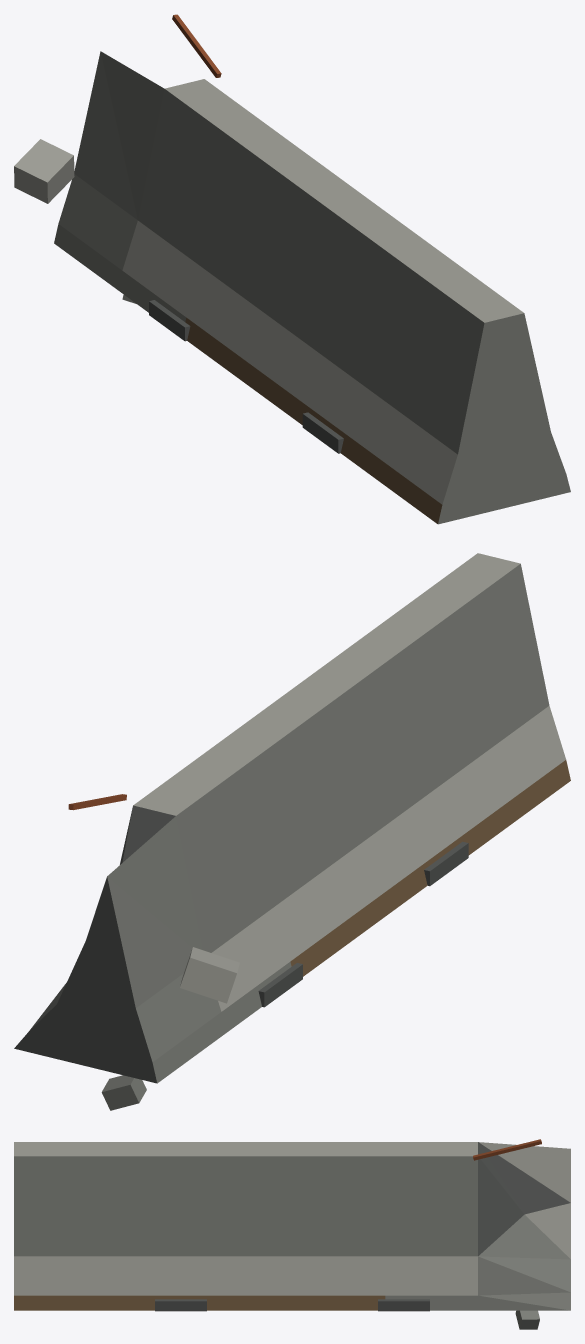
Rendered from jersey_barrier.glb.
3 views of the same model, one above another, from view 1: azimuth 30°, elevation 25°; view 2: azimuth 150°, elevation 25°; view 3: azimuth 270°, elevation 25° (orthographic). The views are drawn at different scales.
Visible parts, largest first — view 1: jersey_barrier; view 2: jersey_barrier; view 3: jersey_barrier.
Boxes of the visible parts, bbox=[...] form: jersey_barrier: bbox=[14, 14, 570, 524]; jersey_barrier: bbox=[14, 553, 570, 1110]; jersey_barrier: bbox=[14, 1139, 570, 1329].
Size of what is drawn, in the model's own units: 0.8674 by 1.2 by 3.
2 materials, 2 textured.
